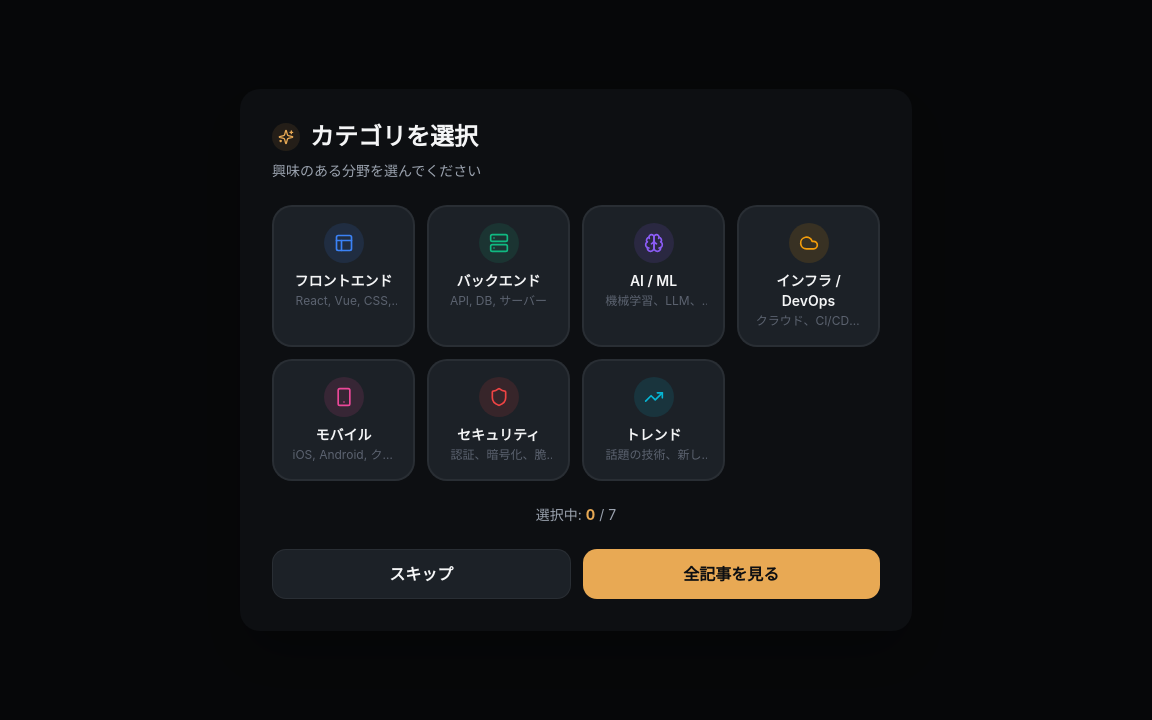
CategorySelectionModal › オンボーディングモード › カテゴリを選択した場合 › 「始める」ボタンに変わること
Click the text "フロントエンド" at (344, 281), box [290,271,397,291]
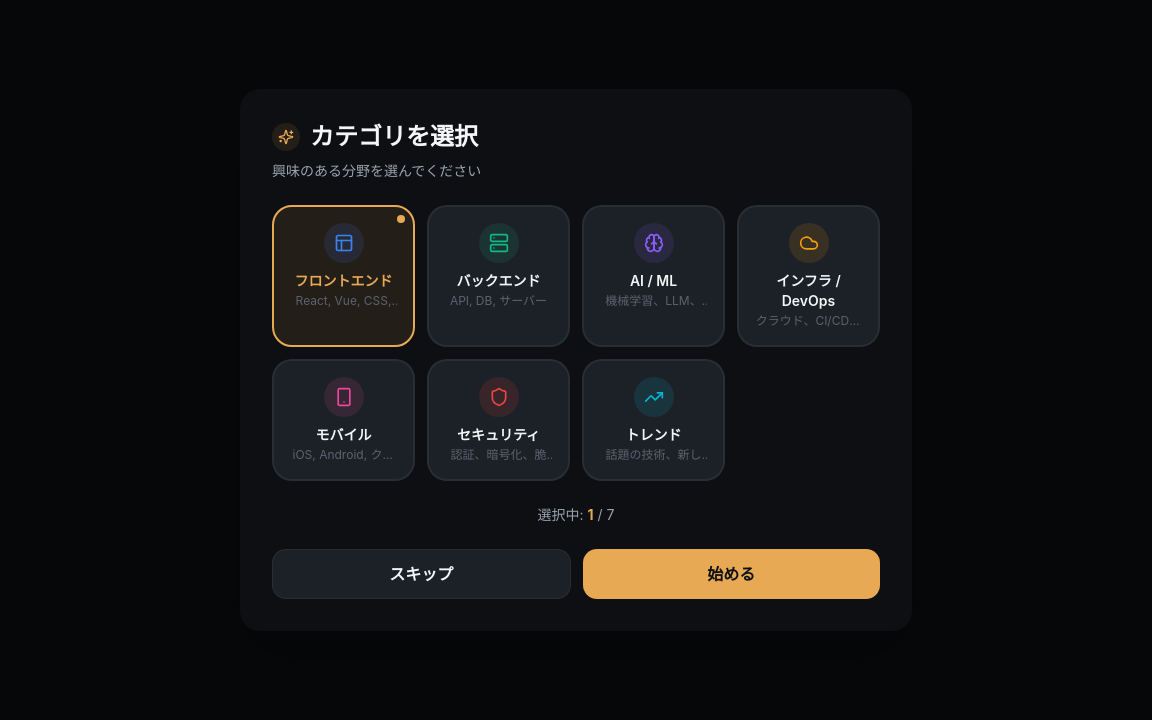
Now the button "始める" is shown, box [582,549,880,599]
